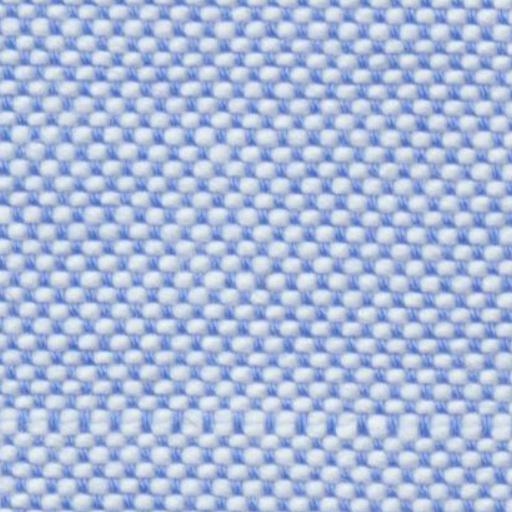TuoSha: (16, 362, 494, 466)
